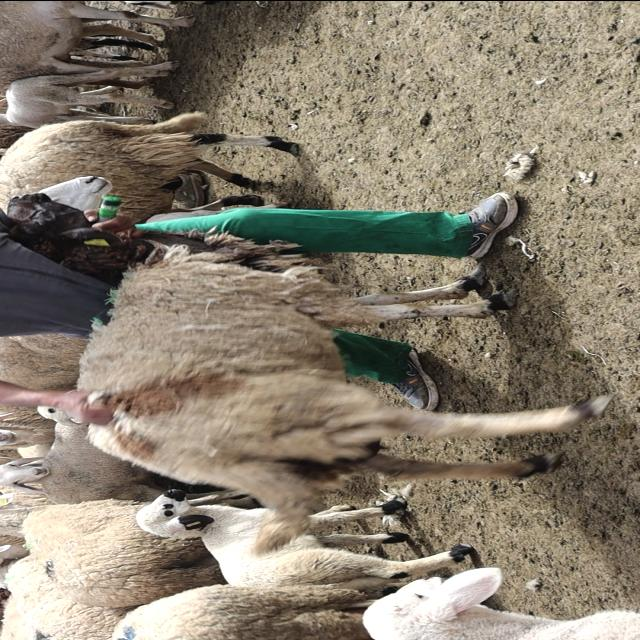Score_1: (5, 175, 611, 553)
